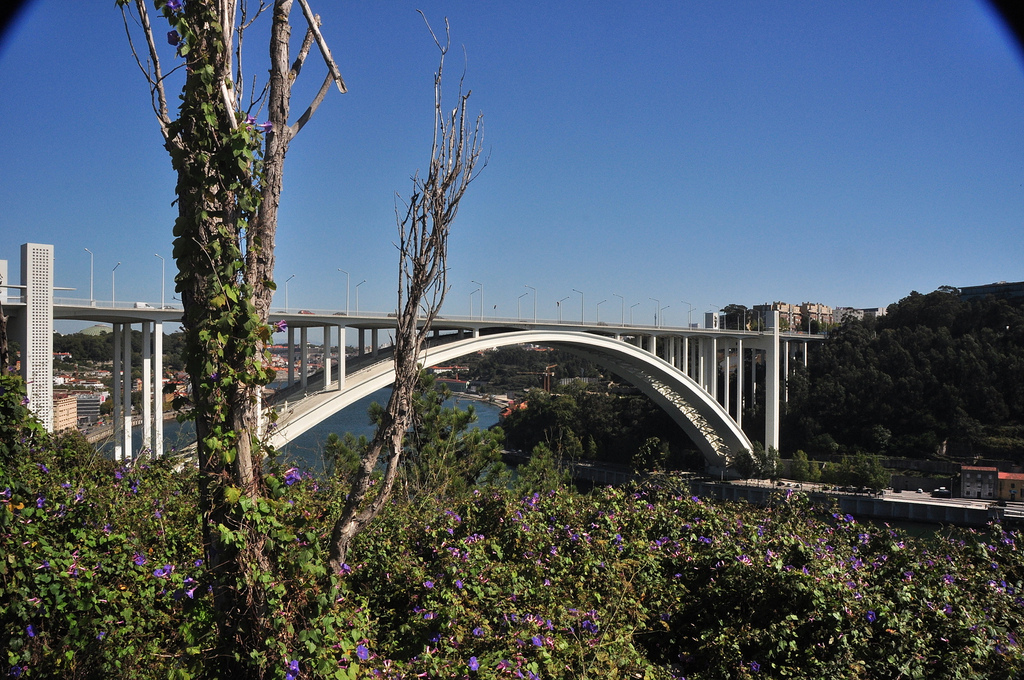arrabida: (0, 238, 836, 479)
